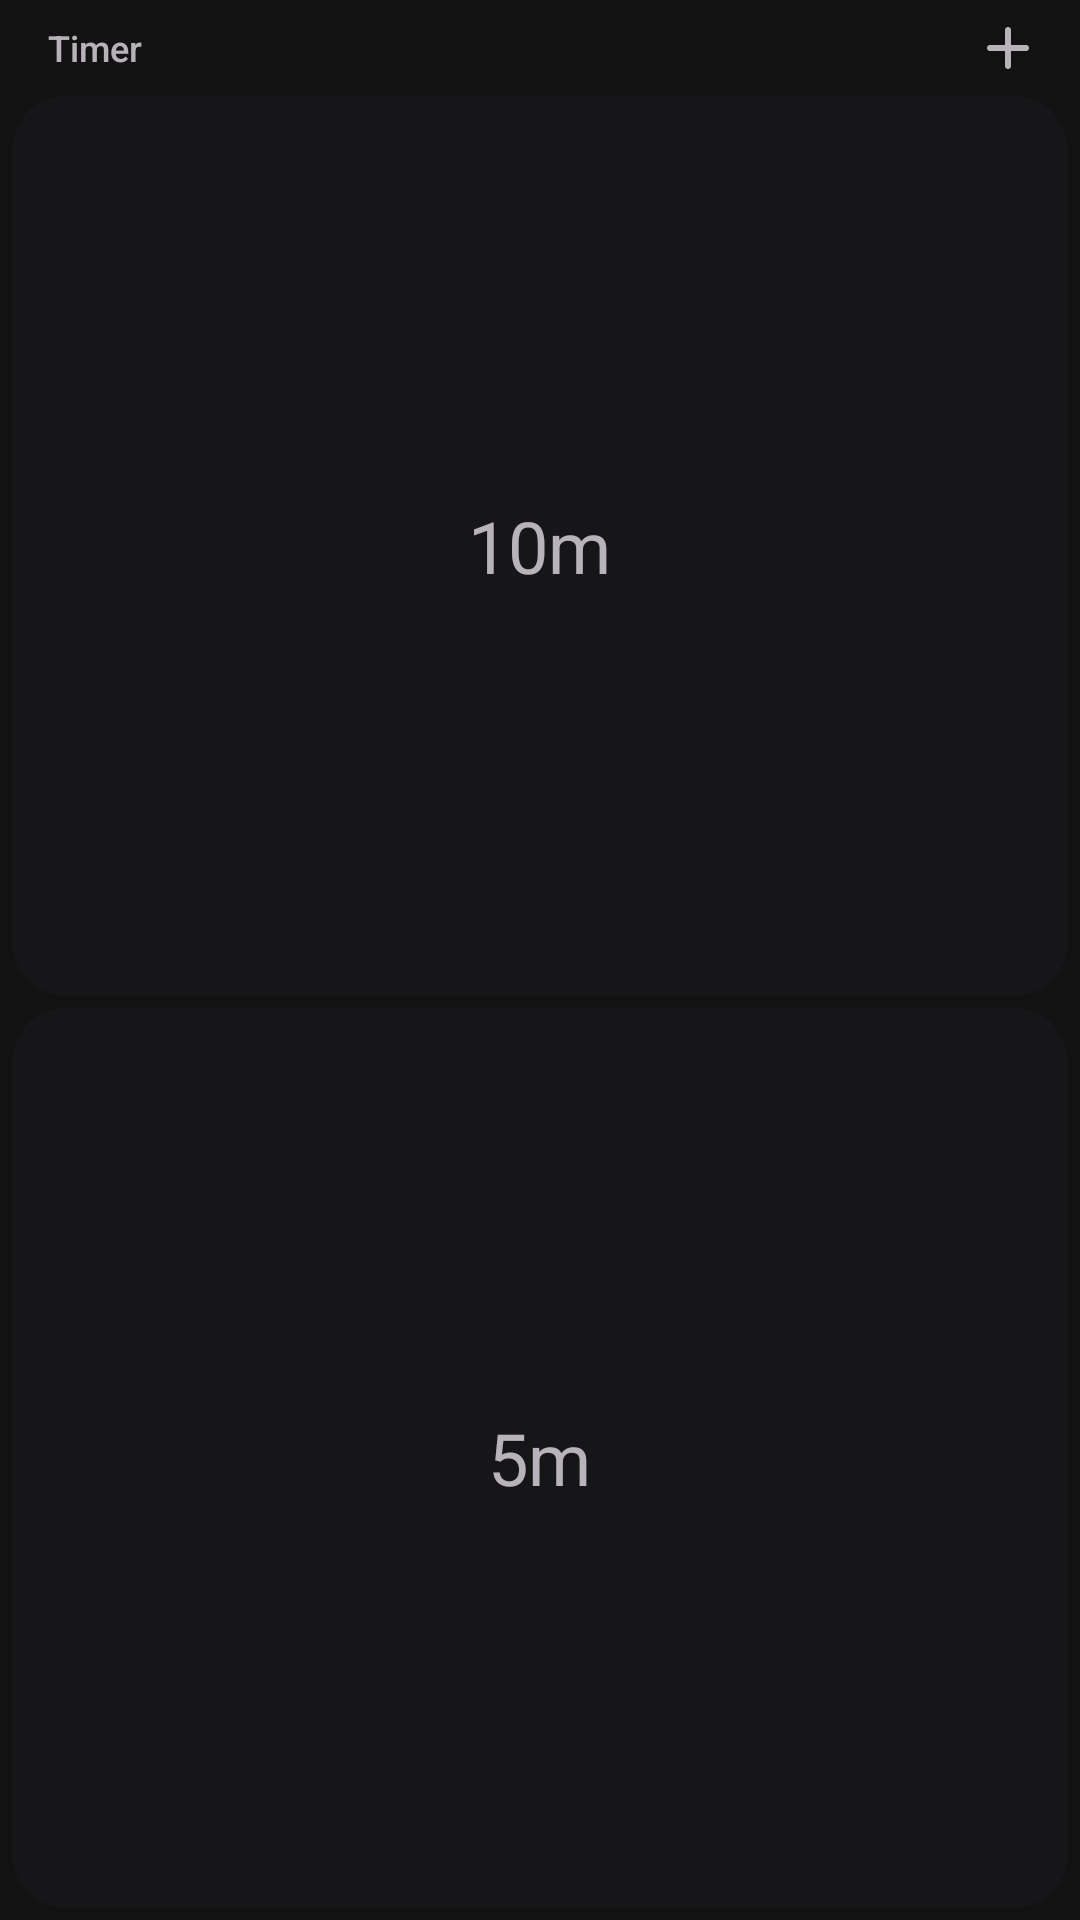

Screen size 1080 x 1920. Icon name, then its box in pixels as BBox(x1, y1, x2, y2):
Add Timer: BBox(987, 27, 1029, 69)
